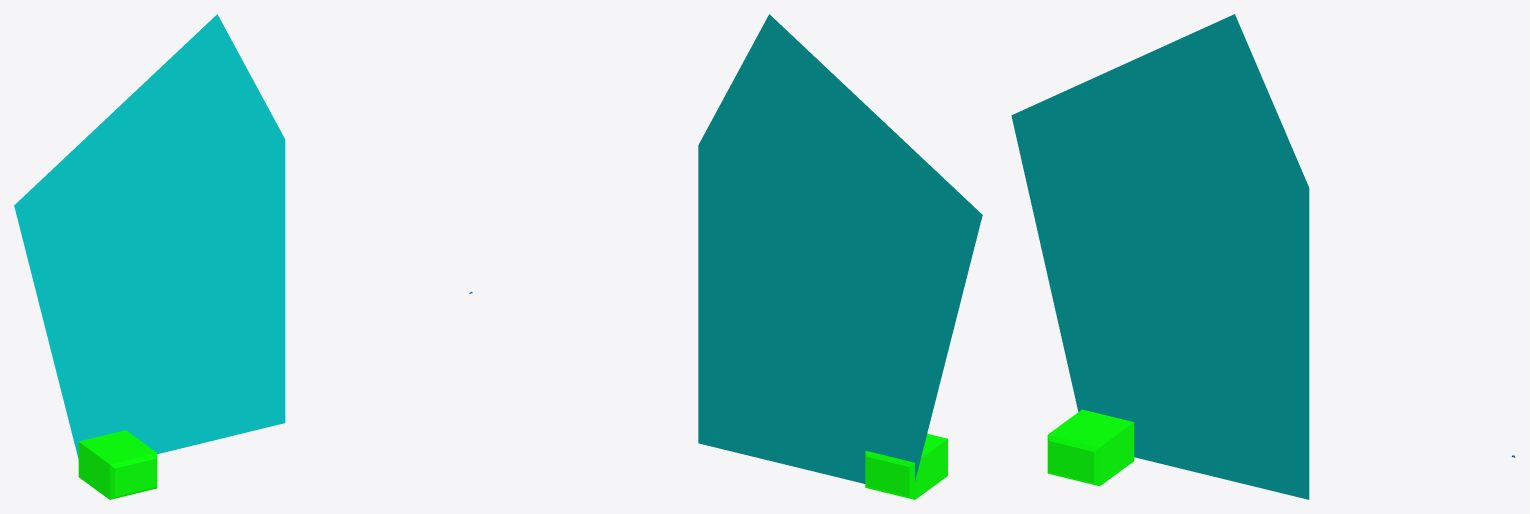
The picture shows the model from 3 angles, left to right: view 1: azimuth 30°, elevation 25°; view 2: azimuth 150°, elevation 25°; view 3: azimuth 330°, elevation 25°; orthographic projection. The views are drawn at different scales.
Size of the model in its own units: 135 by 121 by 18.
